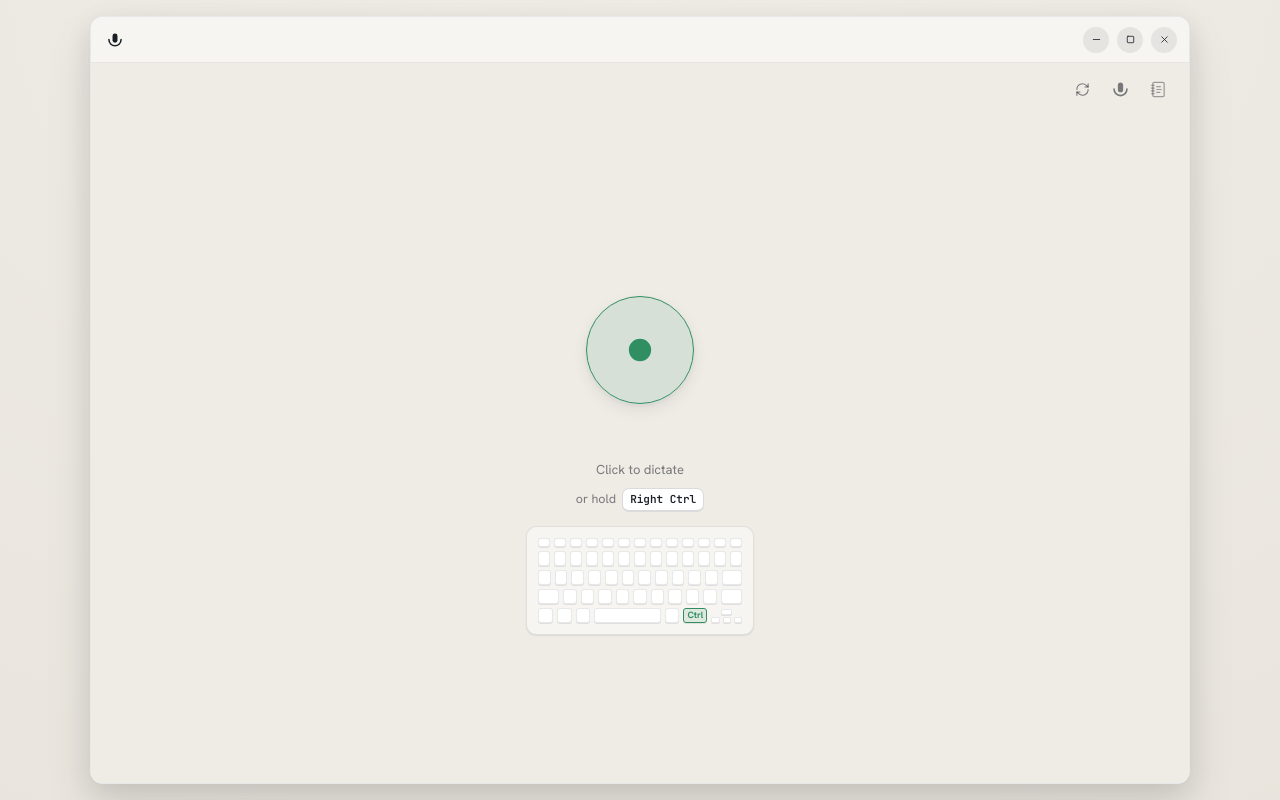
Quiet Console app (mock mode) › restarts from an installed package found by explicit check
The image size is (1280, 800).
What coordinates should you click on to do the following:
click the button named "Check for updates"
I would click on:
 (1082, 89)
Its box is [1067,75,1097,103].
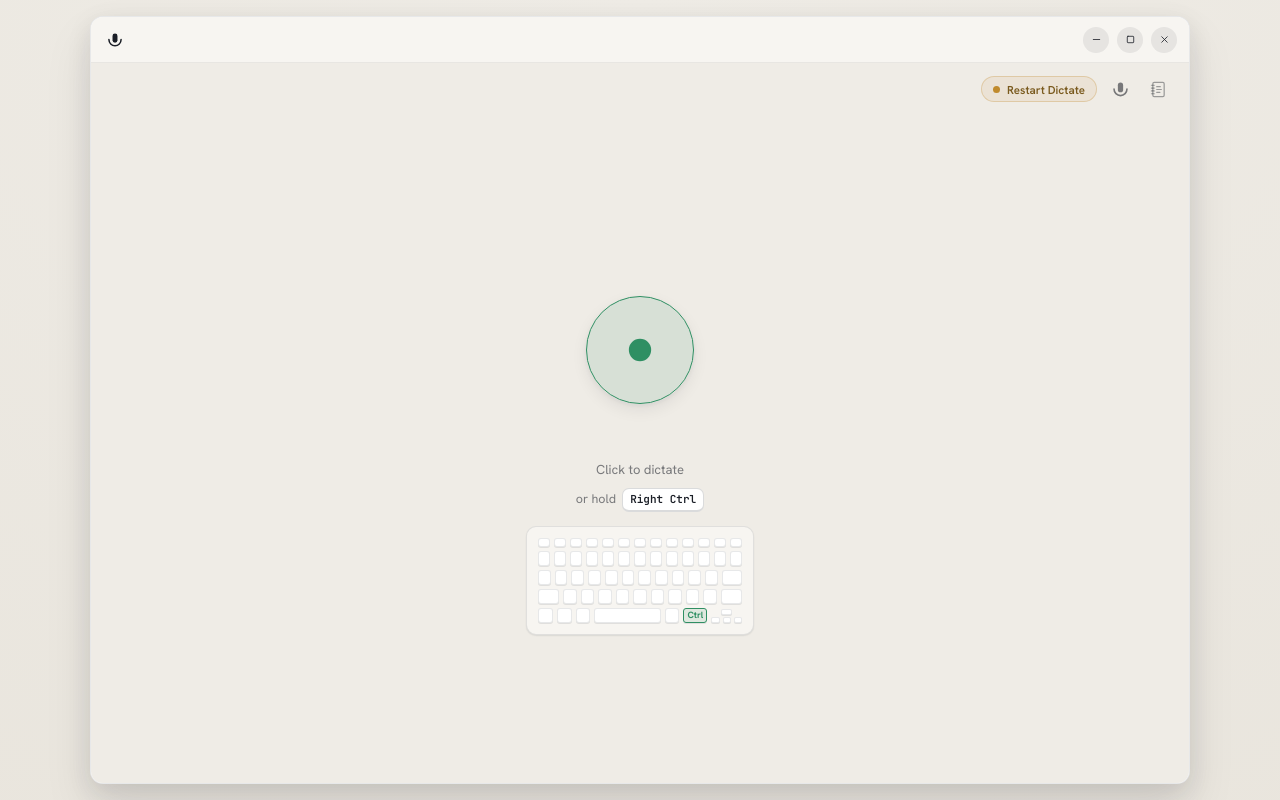
What coordinates should you click on to do the following:
click the button "Restart Dictate"
I would click on:
 (1039, 89)
Its box is [981,76,1097,102].
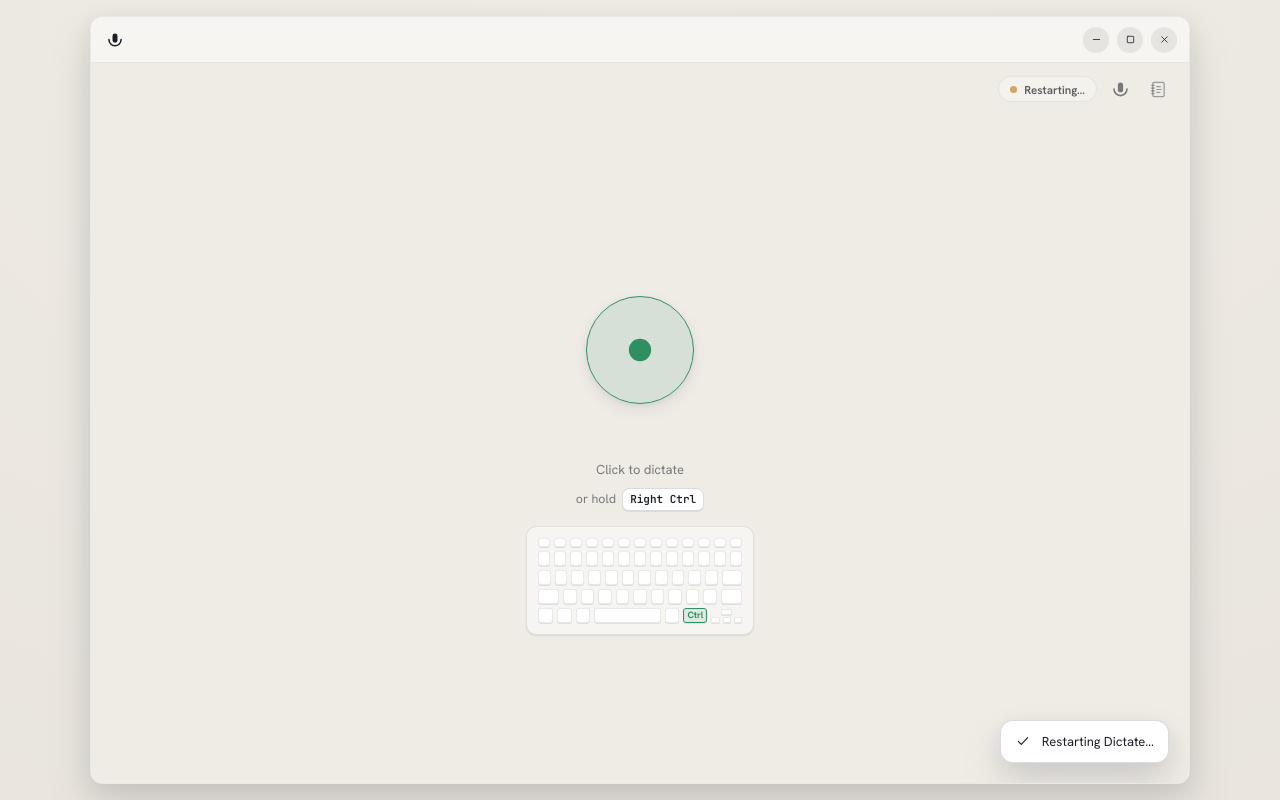
Check: the button "Restarting…" is shown, box [998,76,1097,102]
